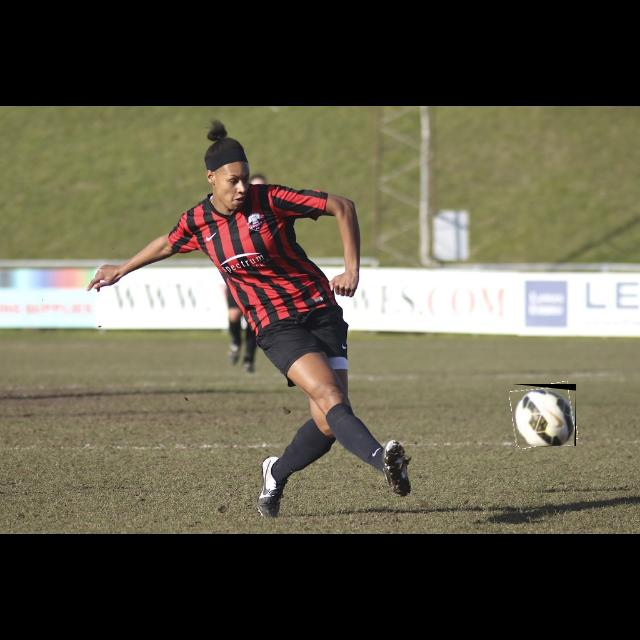Football: (512, 384, 576, 446)
